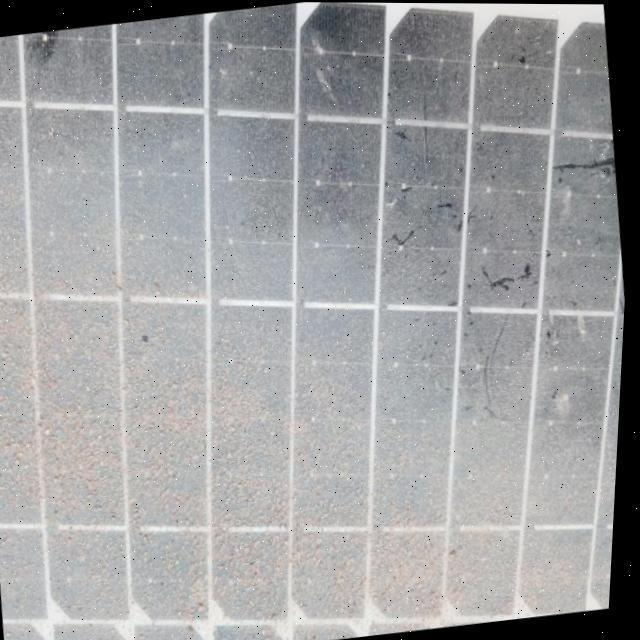Surface Contaminant: (7, 2, 628, 633)
